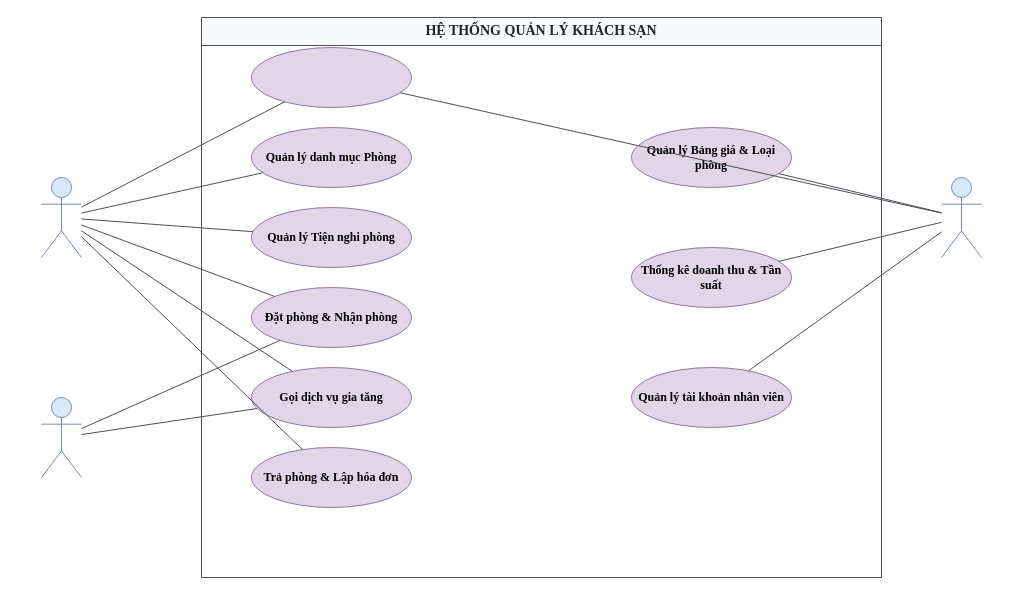
This 1026x595 diagram has some shape labels left out. The centre of each missing label's shape, as x and y in pixels:
"Khách thuê" belongs at [61,437].
"Nhân viên Lễ tân" belongs at [61,217].
"Quản lý khách sạn" belongs at [961,217].
"Đăng nhập hệ thống" belongs at [331,77].
